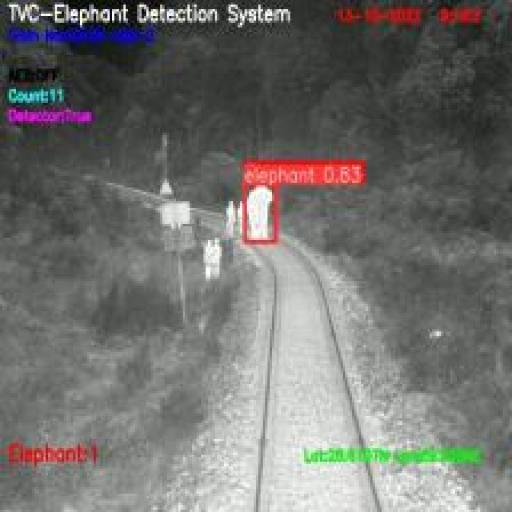Elephant: (244, 183, 276, 242)
